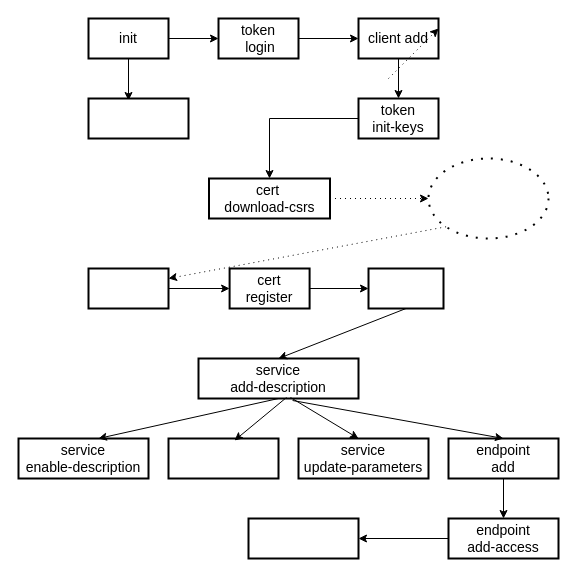
Image size: 576x576. Some labels were removed from this diagram. The centre of each missing label's shape, as x and y in pixels:
cert activate: point 405,288
cert import: point 128,288
client register: point 303,538
service add-access: point 223,458
Sign CSRS at approved CA: point 488,198
timestamp init: point 138,118
